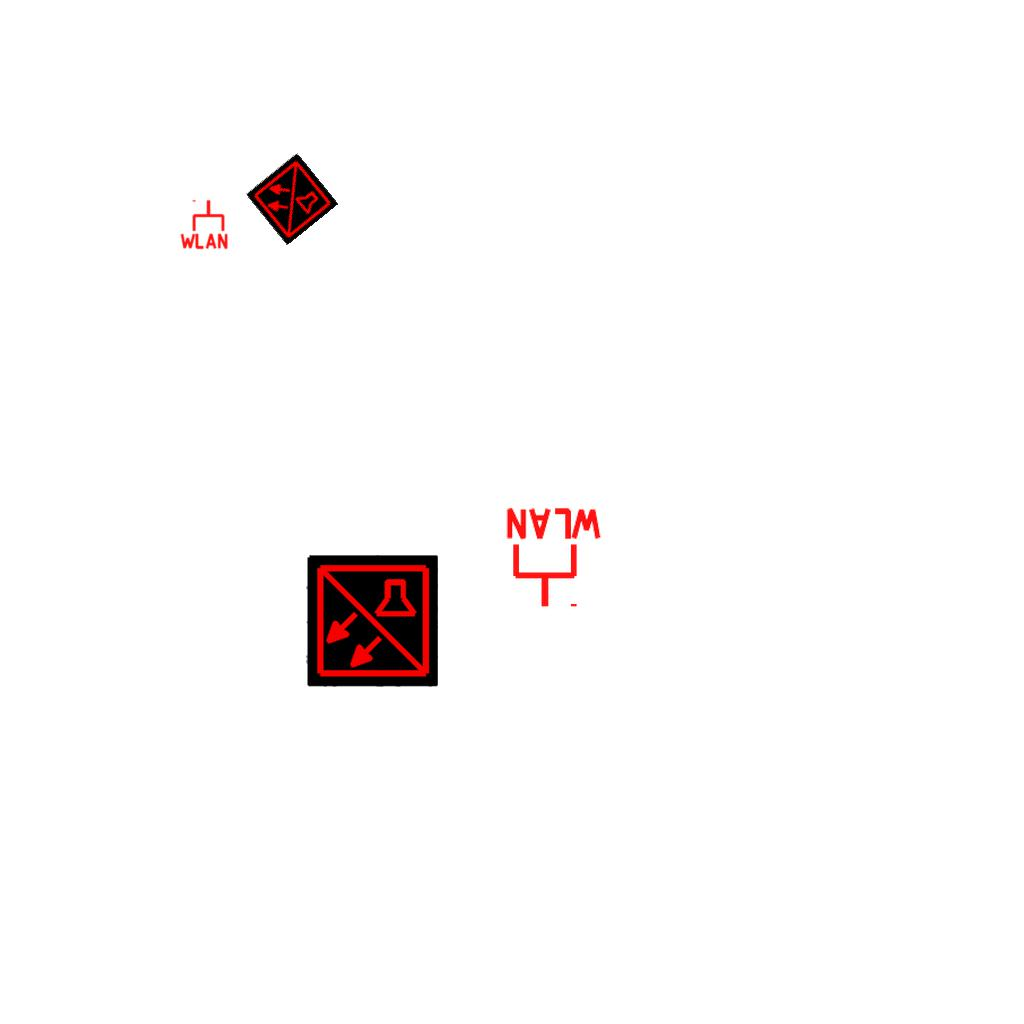OKW_Multisensormelder_(Kombination_optischer_Rauch-Kahlenmonoxid_Waerme-Melder): (306, 555, 438, 687), (245, 152, 339, 246)
WLAN: (502, 506, 606, 611), (178, 198, 230, 250)
